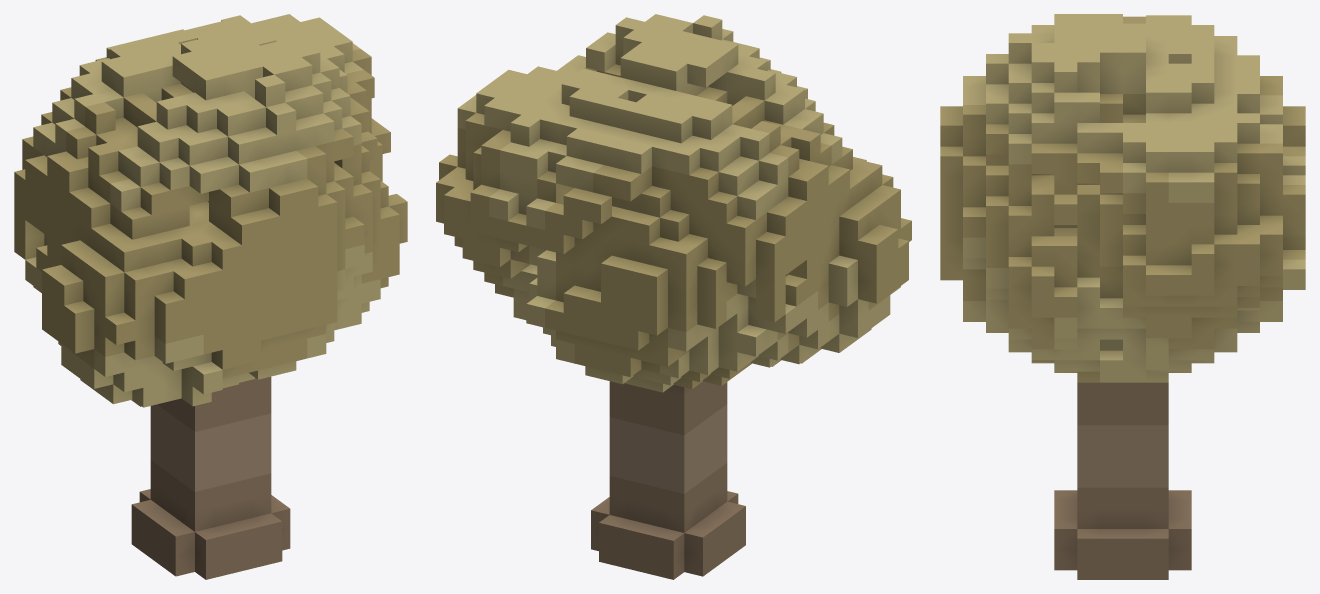
The model's file is grand_arbre_1.glb.
3 views of the same model, side by side, from view 1: azimuth 30°, elevation 25°; view 2: azimuth 150°, elevation 25°; view 3: azimuth 270°, elevation 25° (orthographic). The views are drawn at different scales.
Visible parts, largest first — view 1: geometry_0; view 2: geometry_0; view 3: geometry_0.
Part boxes in pixels (x1,y1,x2,y2): geometry_0: [14, 14, 407, 579]; geometry_0: [436, 14, 911, 579]; geometry_0: [940, 14, 1305, 579].
Size of the model in its own units: 5 by 6.25 by 4.
